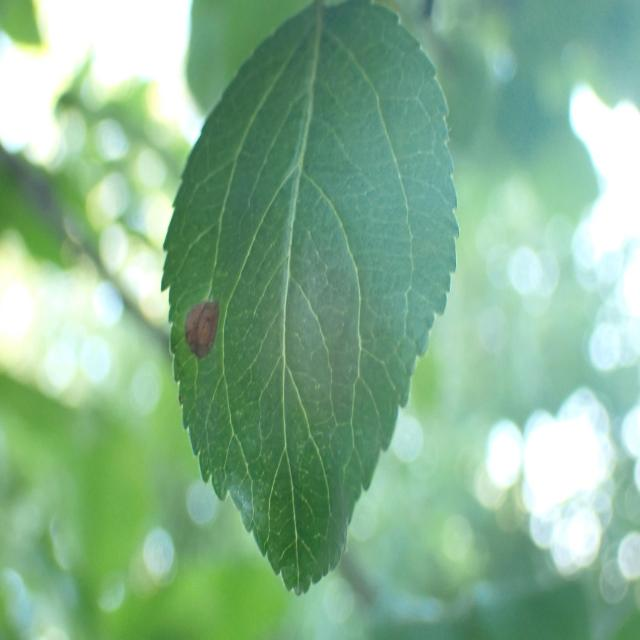Black Rot: (164, 280, 232, 370)
